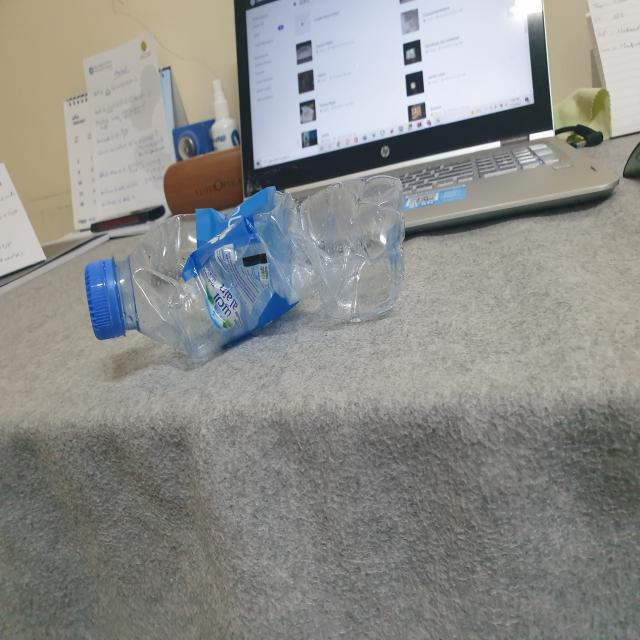plastic: (82, 172, 404, 366)
